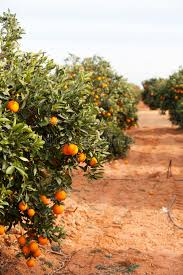orange: (60, 140, 78, 158), (55, 189, 69, 200)
